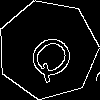Q: (23, 24, 86, 86)
